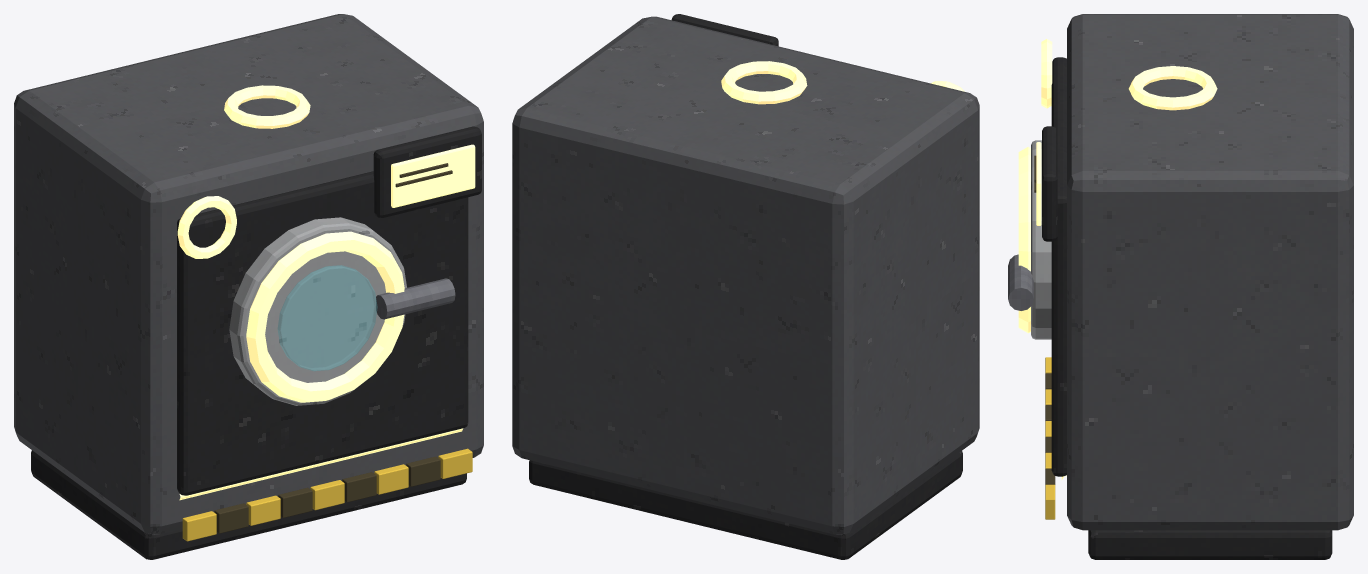
The model's file is machine_reaction_chamber.glb.
3 views of the same model, side by side, from view 1: azimuth 30°, elevation 25°; view 2: azimuth 150°, elevation 25°; view 3: azimuth 270°, elevation 25° (orthographic). The views are drawn at different scales.
Visible parts, largest first — view 1: MCH_ReactionChamber__Insulated_Casing, MCH_ReactionChamber__Front_Heat_Shield, MCH_ReactionChamber__Chamber_Door, MCH_ReactionChamber__Chamber_Door_Ring, MCH_ReactionChamber__Chamber_Window, MCH_ReactionChamber__Plinth, MCH_ReactionChamber__Thermal_Screen_Bezel, MCH_ReactionChamber__Thermal_Screen_Glow, MCH_ReactionChamber__Top_Dock_Ring, MCH_ReactionChamber__Door_Handle, MCH_ReactionChamber__Thermostat_Dial, MCH_ReactionChamber__Thermal_Coil_28 (+9 smaller); view 2: MCH_ReactionChamber__Insulated_Casing, MCH_ReactionChamber__Plinth, MCH_ReactionChamber__Top_Dock_Ring, MCH_ReactionChamber__Thermal_Screen_Bezel; view 3: MCH_ReactionChamber__Insulated_Casing, MCH_ReactionChamber__Plinth, MCH_ReactionChamber__Front_Heat_Shield, MCH_ReactionChamber__Chamber_Door, MCH_ReactionChamber__Top_Dock_Ring, MCH_ReactionChamber__Chamber_Door_Ring, MCH_ReactionChamber__Thermal_Screen_Bezel, MCH_ReactionChamber__Door_Handle, MCH_ReactionChamber__Thermostat_Dial, MCH_ReactionChamber__Thermal_Screen_Glow.
Part boxes in pixels (x1=…): MCH_ReactionChamber__Insulated_Casing: x1=14, y1=14, x2=483, y2=534; MCH_ReactionChamber__Front_Heat_Shield: x1=177, y1=171, x2=468, y2=495; MCH_ReactionChamber__Chamber_Door: x1=229, y1=217, x2=406, y2=405; MCH_ReactionChamber__Chamber_Door_Ring: x1=246, y1=231, x2=404, y2=402; MCH_ReactionChamber__Chamber_Window: x1=277, y1=265, x2=377, y2=371; MCH_ReactionChamber__Plinth: x1=31, y1=450, x2=466, y2=559; MCH_ReactionChamber__Thermal_Screen_Bezel: x1=373, y1=126, x2=481, y2=217; MCH_ReactionChamber__Thermal_Screen_Glow: x1=391, y1=144, x2=475, y2=207; MCH_ReactionChamber__Top_Dock_Ring: x1=224, y1=85, x2=310, y2=128; MCH_ReactionChamber__Door_Handle: x1=376, y1=278, x2=455, y2=319; MCH_ReactionChamber__Thermostat_Dial: x1=177, y1=196, x2=236, y2=258; MCH_ReactionChamber__Thermal_Coil_28: x1=179, y1=428, x2=463, y2=500; MCH_ReactionChamber__Insulated_Casing: x1=512, y1=16, x2=979, y2=534; MCH_ReactionChamber__Plinth: x1=529, y1=451, x2=962, y2=559; MCH_ReactionChamber__Top_Dock_Ring: x1=721, y1=61, x2=807, y2=104; MCH_ReactionChamber__Thermal_Screen_Bezel: x1=671, y1=14, x2=778, y2=46; MCH_ReactionChamber__Insulated_Casing: x1=1067, y1=14, x2=1353, y2=530; MCH_ReactionChamber__Plinth: x1=1088, y1=530, x2=1332, y2=559; MCH_ReactionChamber__Front_Heat_Shield: x1=1051, y1=57, x2=1066, y2=476; MCH_ReactionChamber__Chamber_Door: x1=1031, y1=140, x2=1051, y2=339; MCH_ReactionChamber__Top_Dock_Ring: x1=1128, y1=66, x2=1217, y2=110; MCH_ReactionChamber__Chamber_Door_Ring: x1=1018, y1=147, x2=1030, y2=333; MCH_ReactionChamber__Thermal_Screen_Bezel: x1=1042, y1=126, x2=1057, y2=241; MCH_ReactionChamber__Door_Handle: x1=1008, y1=254, x2=1033, y2=310; MCH_ReactionChamber__Thermostat_Dial: x1=1041, y1=39, x2=1052, y2=108; MCH_ReactionChamber__Thermal_Screen_Glow: x1=1036, y1=142, x2=1041, y2=225.
Size of the model in its own units: 1.4 by 1.54 by 1.21.
Materials: 8 (4 with a texture image).
